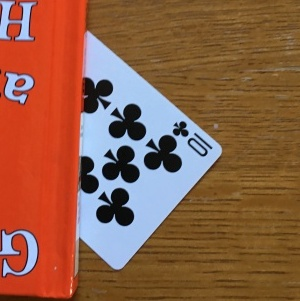card: (76, 30, 224, 271)
